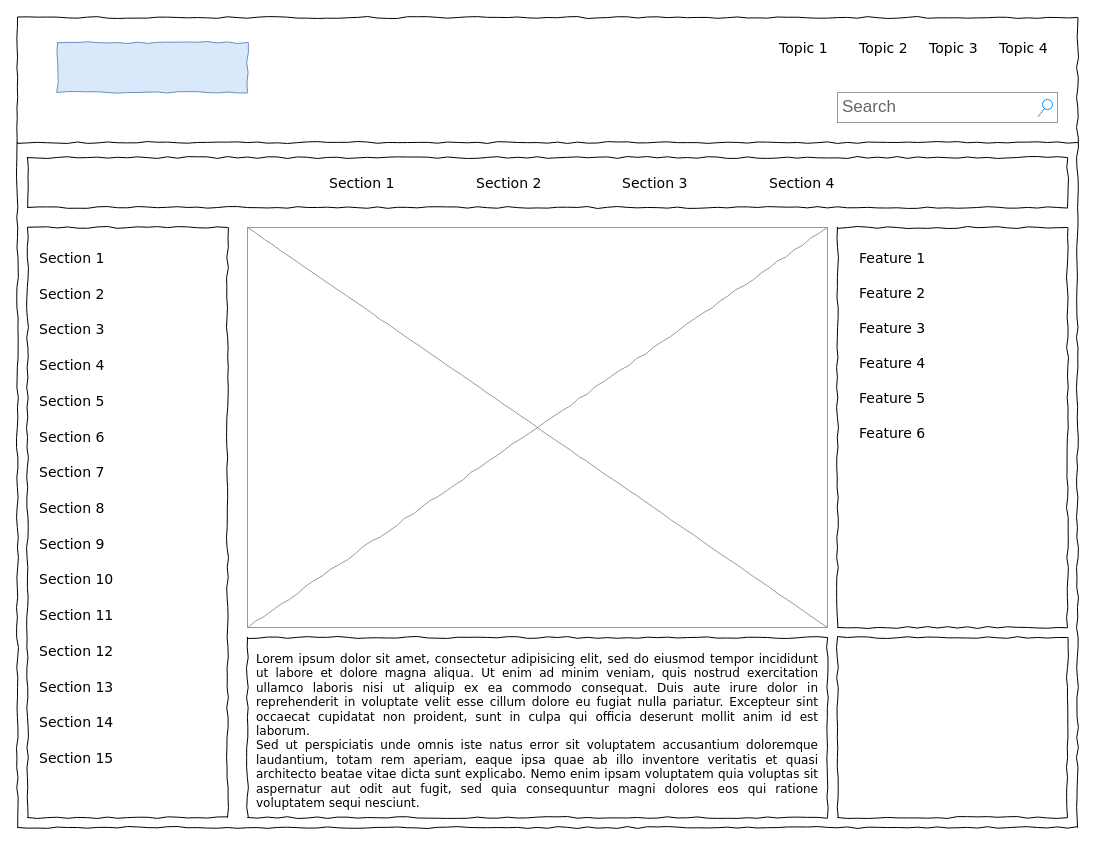
Image size: 1095x845. Some labels were removed from this diagram. The shapes that lost their labels are listed below. From the top down, each one's centre as x and y in pixels, then its label:
the point at 152,67: hgfhgfhgf
the point at 952,727: External Links
